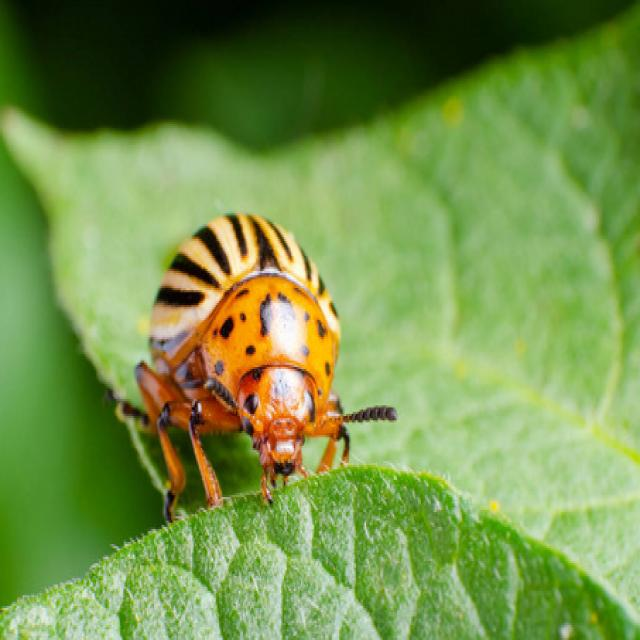ShuCaiHuaBanChong-Grown-: (131, 204, 366, 509)
